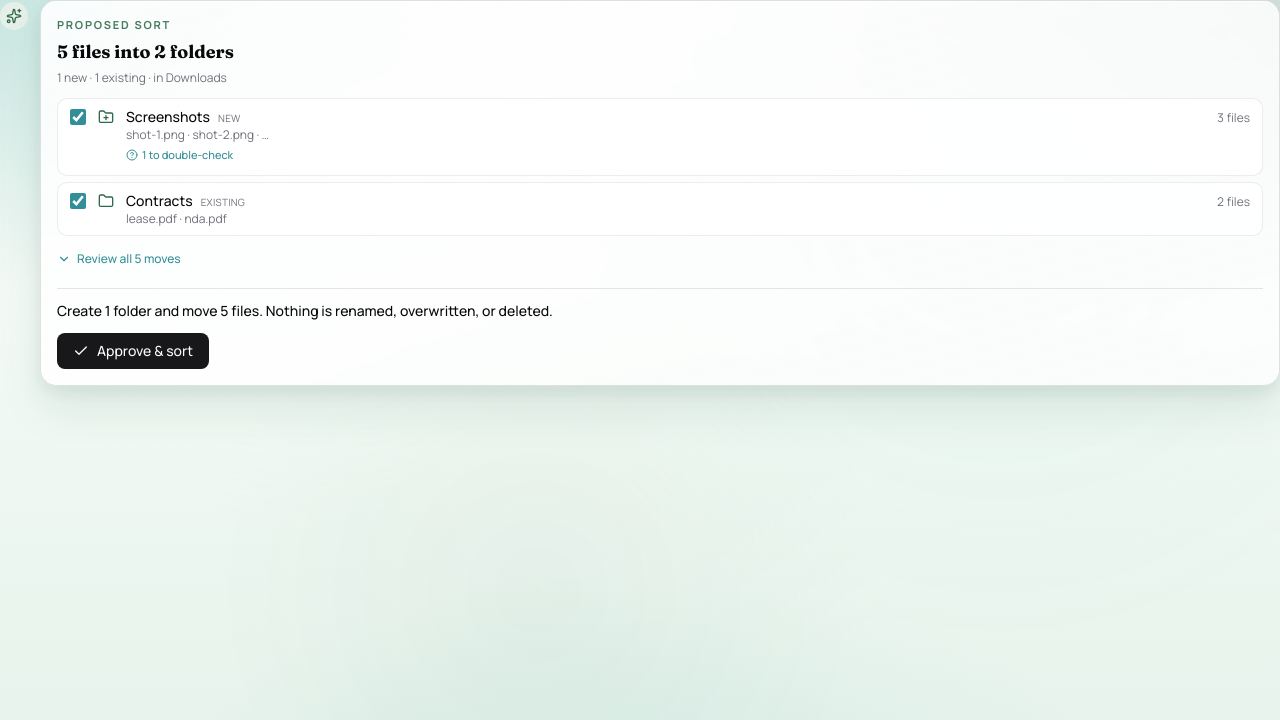
Test case: PlanCard full review + exclusions (S4) › excludes a file, marks it, and drops it from the counts and approval copy
Expected: the text "Create 1 folder and move 5 files. Nothing is renamed, overwritten, or deleted." is shown, [57,301,553,320]
Click the button "Review all 5 moves": (119, 259) [57,251,181,267]
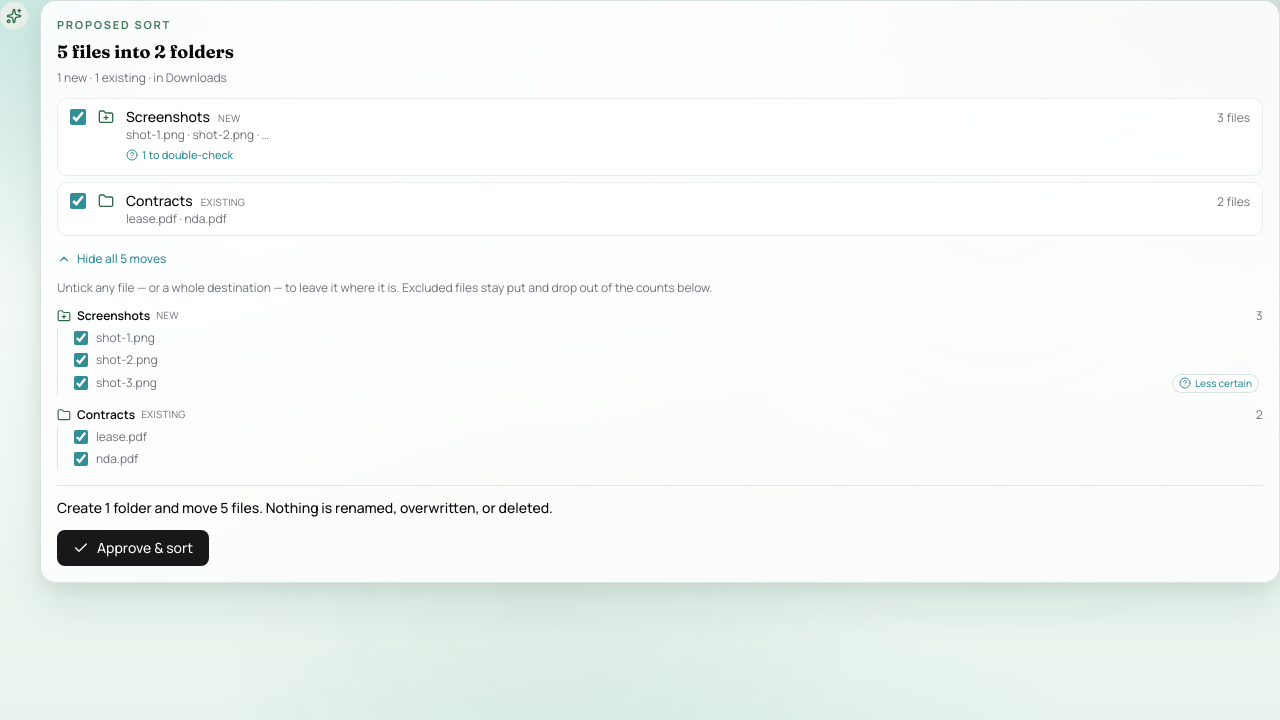
Result: the checkbox named "include nda.pdf" is checked
Click the checkbox named "include nda.pdf": (81, 459) [74,452,88,466]
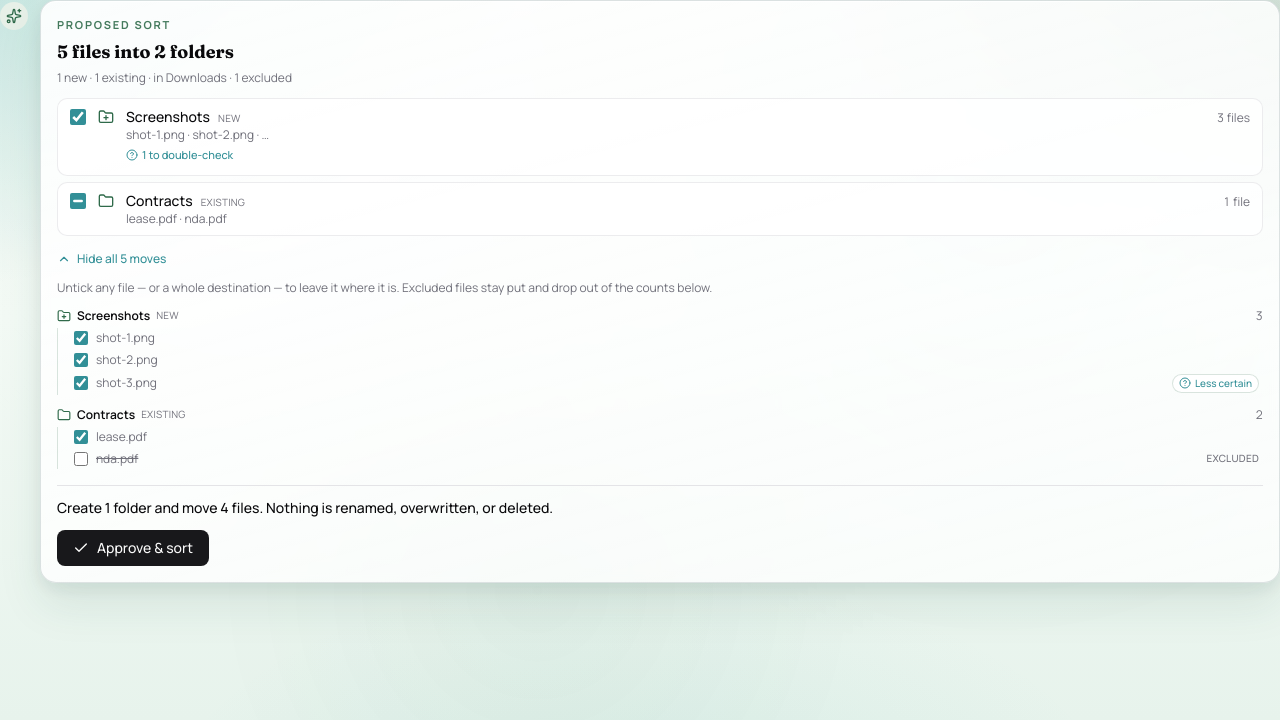
Result: the checkbox named "include nda.pdf" is not checked at [74,452,88,466]
Result: the list item named "include nda.pdf" shows "excluded" at [1206,452,1259,466]
Result: the text "Create 1 folder and move 4 files. Nothing is renamed, overwritten, or deleted." is shown at [57,498,553,517]
